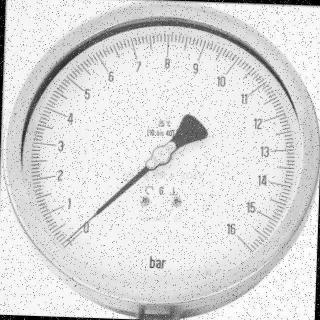gauge: (0, 0, 319, 320), (52, 220, 96, 254), (216, 221, 260, 253), (152, 144, 172, 166), (59, 232, 76, 248)
